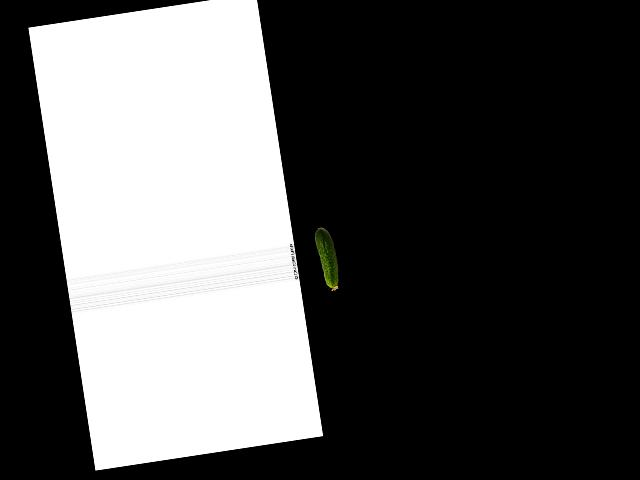cucumber: (313, 225, 341, 292)
